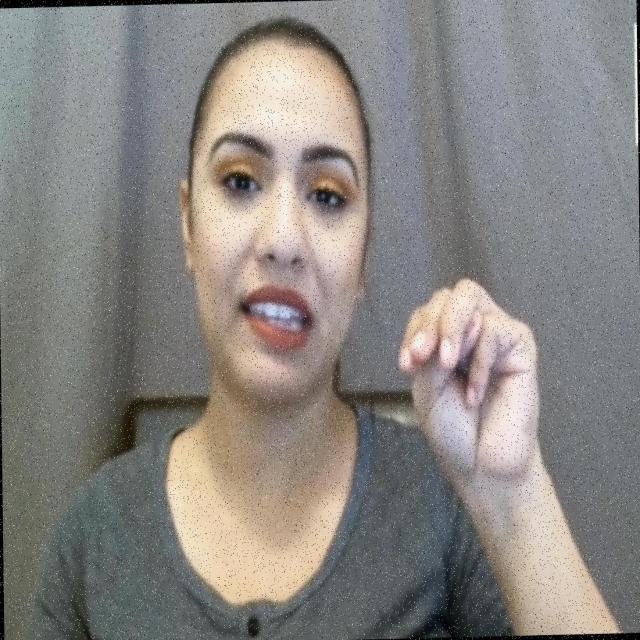M: (394, 271, 548, 486)
